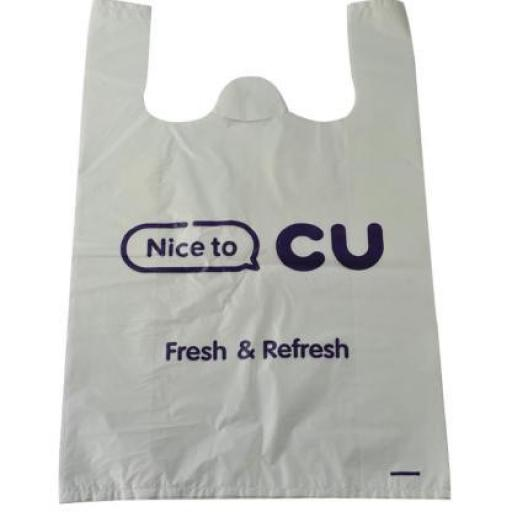plastic bag: (54, 0, 466, 508)
